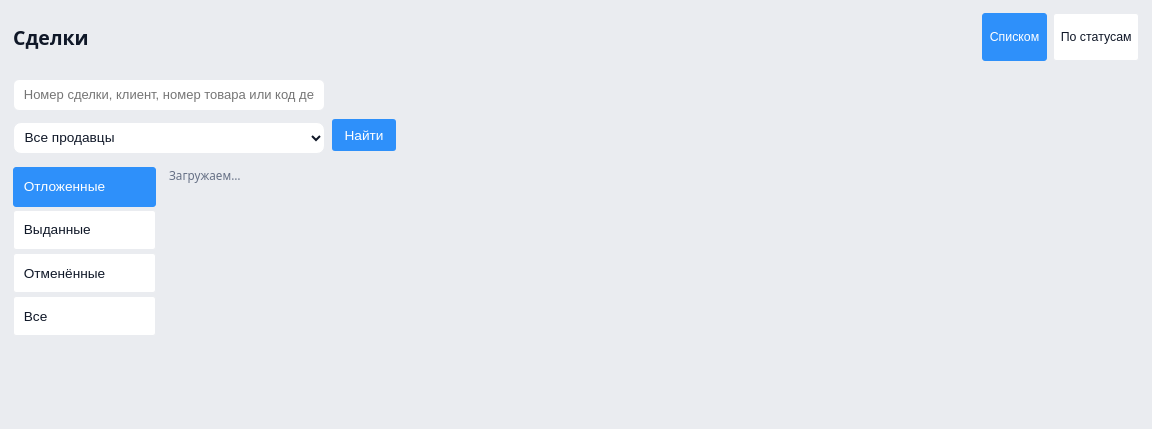
Scenario: доска сделок по состояниям › раздел открывается списком, а «По статусам» показывает пять колонок со счётчиками
This screenshot has width=1152, height=429.
Click the button "По статусам": x=1096, y=37 [1053,13,1139,61]
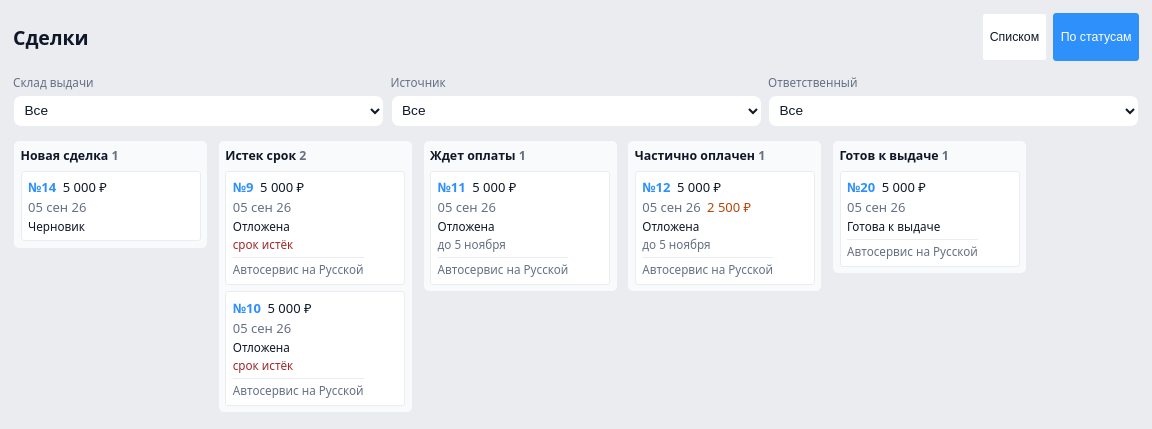
expect the heading "Истек срок 2" is shown: met, box [225,147,306,164]
